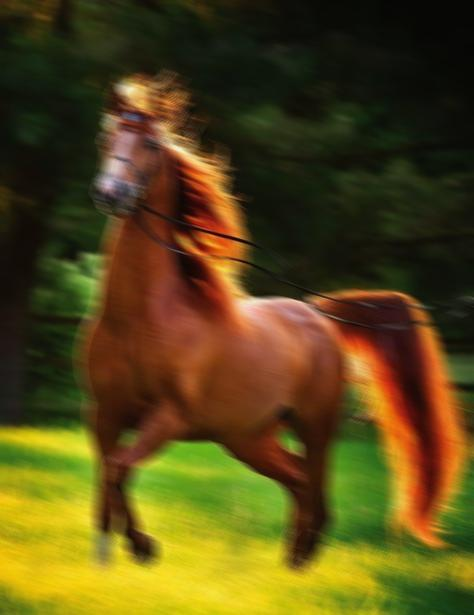horse: (76, 66, 474, 574)
